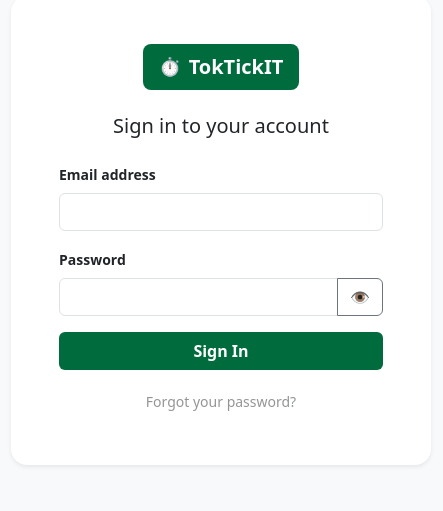
Test: LoginPage authentication failures › shows the generic banner for invalid credentials
Type "user@example.com" into the field labelled "Email address" at (221, 212), box [59,192,383,230]
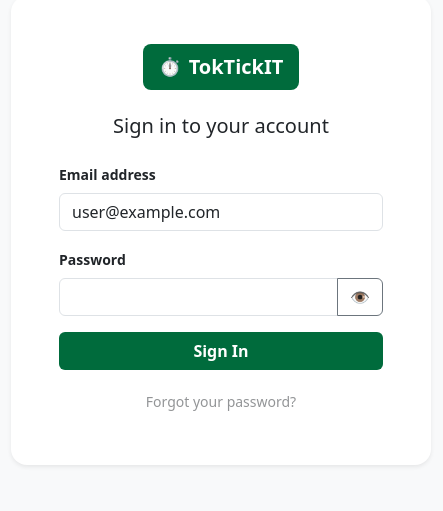
Type "WrongPass1!" into the password field labelled "Password" at (198, 296), box [59,278,338,316]
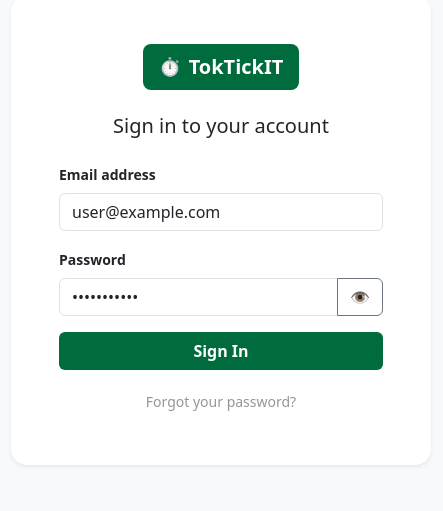
Click the button "Sign In" at (221, 350), box [59,332,383,370]
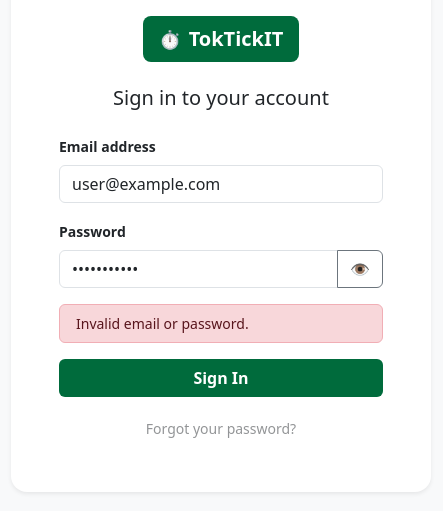
Expected: the message reads "Invalid email or password.", [76,314,249,333]
